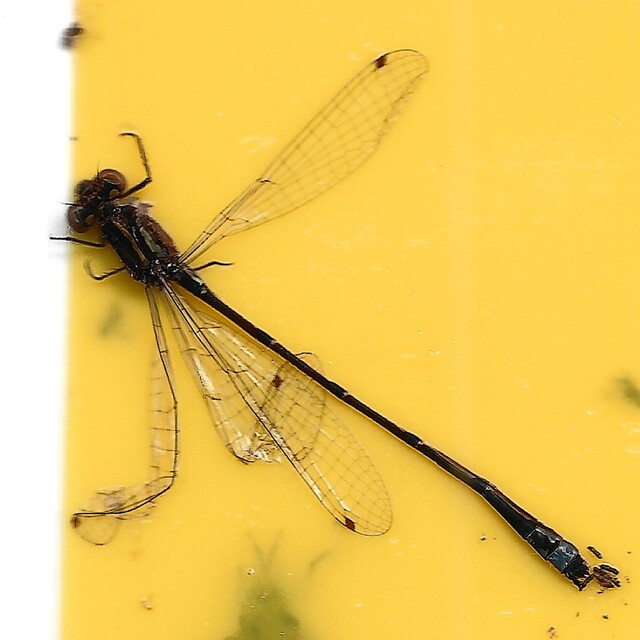Odonata: (48, 50, 592, 590)
